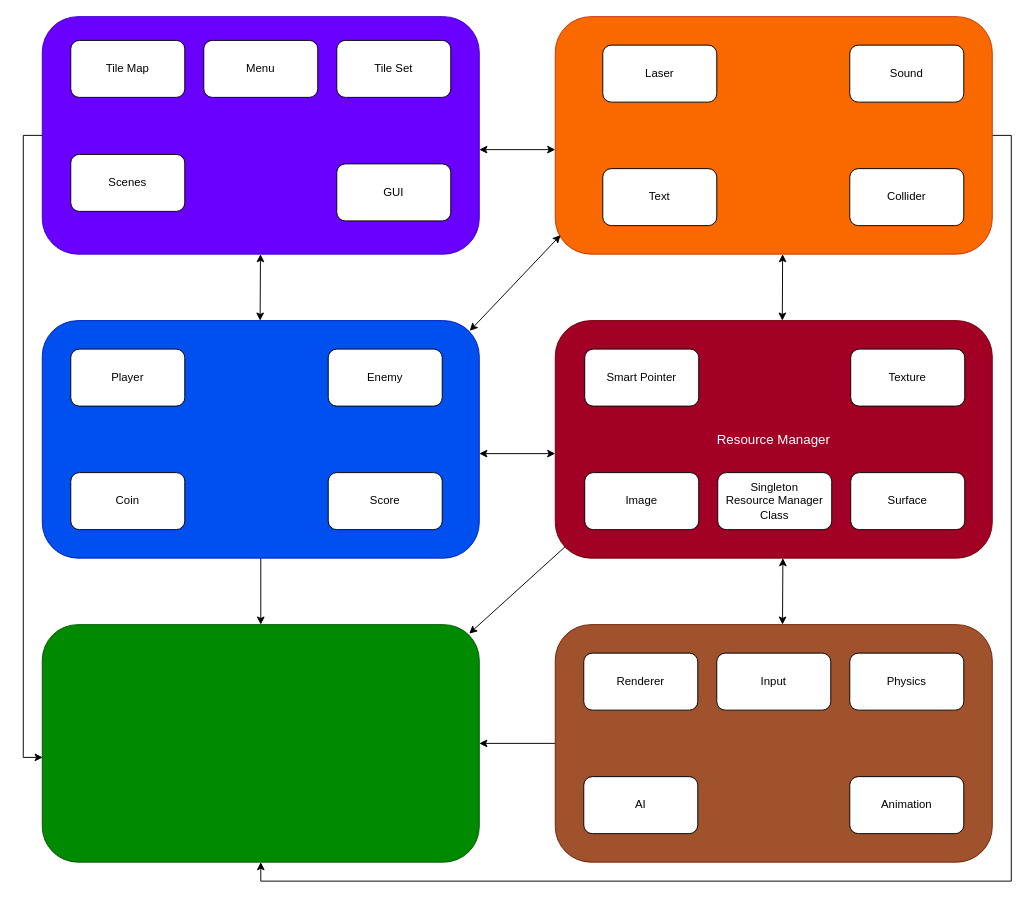
The diagram is 1036 pixels wide and 905 high, and some of its shapes have lost their labels. The box of each missing label's shape, as (x1, y1, x2, y2) in pixels:
Components: (554, 16, 992, 254)
Game: (41, 624, 479, 862)
Graphics: (41, 16, 479, 254)
Objects: (41, 320, 479, 558)
System: (554, 624, 992, 862)
